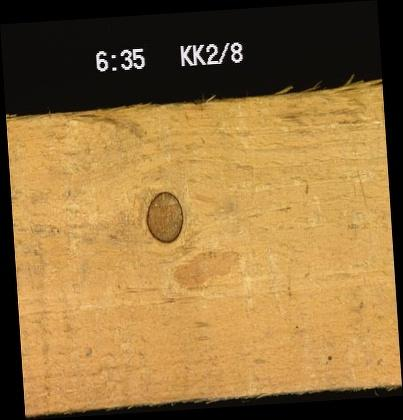dry_knot: (144, 190, 183, 244)
